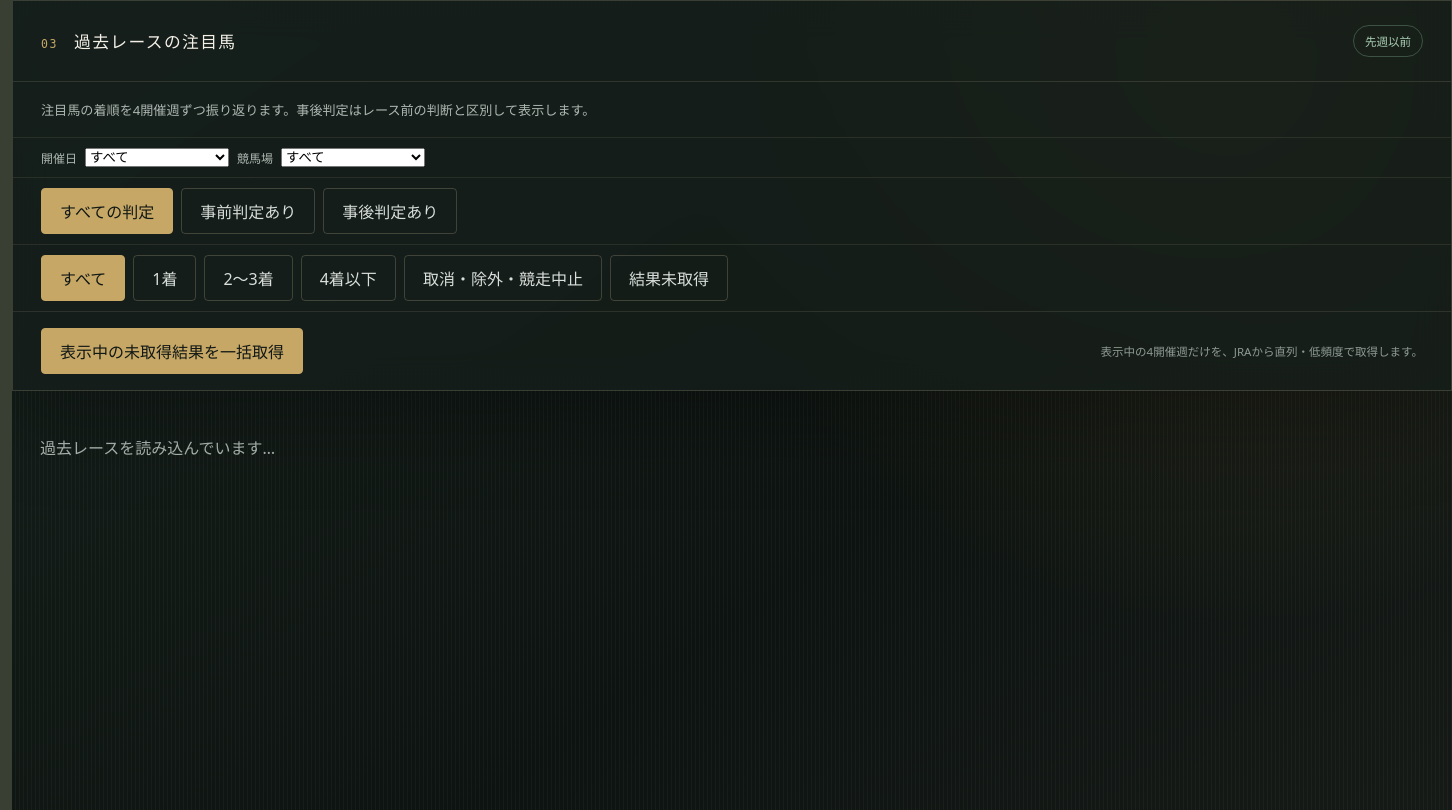
Test: explains when bulk acquisition stops after five consecutive failures
Step 1. Click the button "表示中の未取得結果を一括取得" → {"x": 172, "y": 351}, box left=41, top=328, right=303, bottom=374
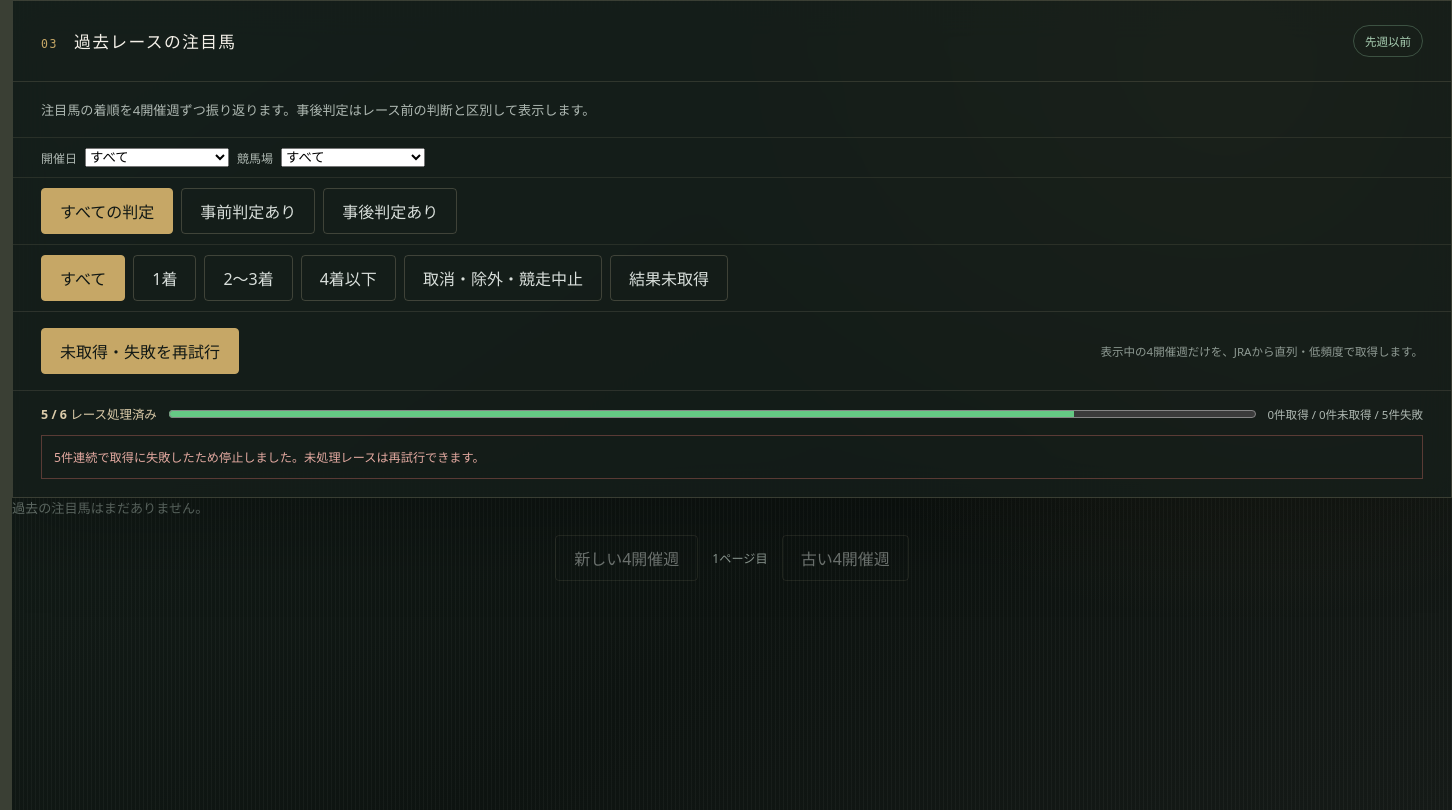
Check: the text "5件連続で取得に失敗したため停止しました。未処理レースは再試行できます。" is shown, box left=54, top=448, right=485, bottom=466
